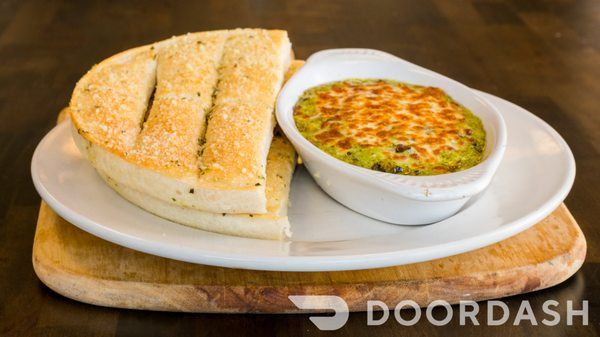soup: (64, 27, 300, 218)
sushi: (275, 49, 509, 227)
